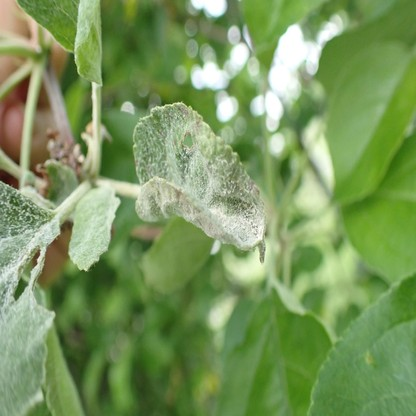powder: (133, 99, 266, 261), (0, 181, 59, 416), (19, 0, 102, 86), (355, 305, 416, 416), (68, 184, 120, 273)
